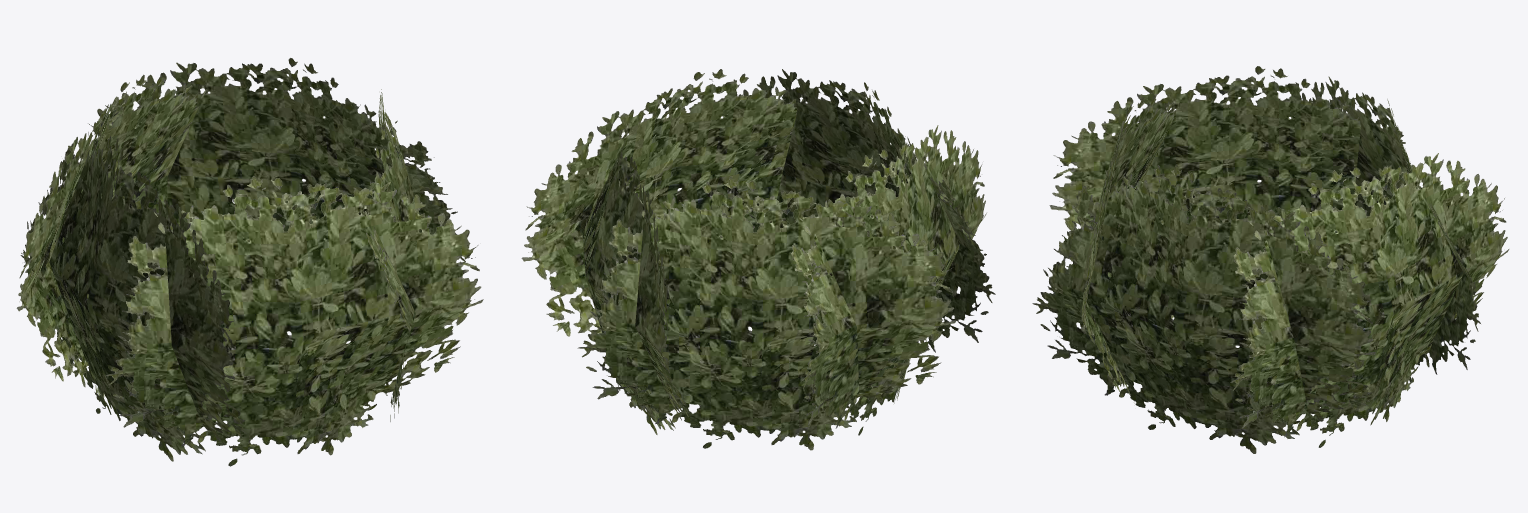
The model's file is Plant_A.glb.
3 views of the same model, side by side, from view 1: azimuth 30°, elevation 25°; view 2: azimuth 150°, elevation 25°; view 3: azimuth 270°, elevation 25° (orthographic). The views are drawn at different scales.
Parts seen in each view (by area): view 1: Plant_A; view 2: Plant_A; view 3: Plant_A.
Boxes of the visible parts, bbox=[...] form: Plant_A: bbox=[16, 58, 483, 466]; Plant_A: bbox=[521, 69, 995, 450]; Plant_A: bbox=[1032, 66, 1509, 453].
Size of the model in its own units: 2.06 by 1.42 by 2.12.
1 material, 1 textured.
